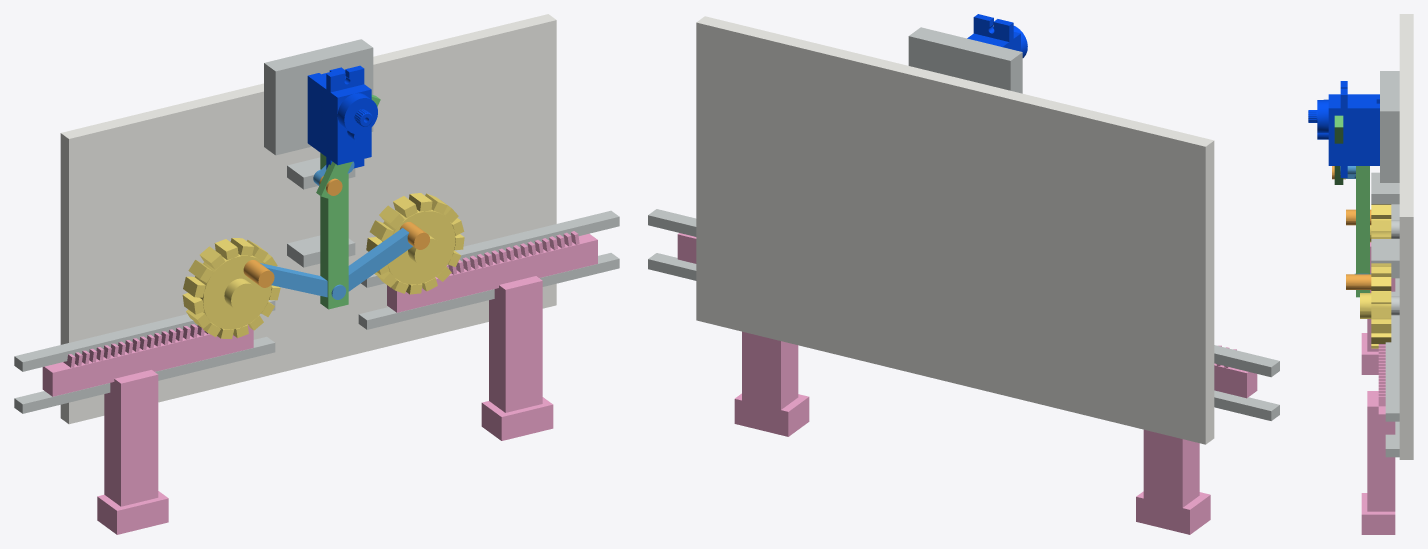
The model's file is .servo_rack_gripper_v0.step.glb.
The picture shows the model from 3 angles, left to right: view 1: azimuth 30°, elevation 25°; view 2: azimuth 150°, elevation 25°; view 3: azimuth 270°, elevation 25°; orthographic projection. The views are drawn at different scales.
Parts seen in each view (by area): view 1: o1.1.1, o1.4.2, o1.6.2, o1.1.8, o1.2.1.1, o1.4.1, o1.6.1, o1.3.1, o1.5.1, o1.1.3, o1.1.2, o1.1.4 (+9 smaller); view 2: o1.1.1, o1.1.8, o1.6.2, o1.4.2, o1.4.3, o1.6.3, o1.2.1.1, o1.1.3, o1.1.2, o1.4.1, o1.1.5, o1.1.4; view 3: o1.1.1, o1.2.1.1, o1.6.2, o1.1.8, o1.3.1, o1.1.5, o1.6.3, o1.1.9, o1.1.10, o1.4.3, o1.2.2, o1.1.4 (+16 smaller).
Boxes of the visible parts, x1,y1,x2,y2 form: o1.1.1: (60, 14, 556, 424); o1.4.2: (104, 370, 158, 506); o1.6.2: (489, 276, 542, 412); o1.1.8: (264, 39, 373, 155); o1.2.1.1: (307, 65, 377, 169); o1.4.1: (42, 324, 253, 396); o1.6.1: (387, 233, 597, 312); o1.3.1: (320, 153, 348, 309); o1.5.1: (195, 254, 271, 329); o1.1.3: (14, 300, 275, 371); o1.1.2: (14, 336, 275, 413); o1.1.4: (358, 253, 619, 329); o1.1.1: (696, 16, 1214, 444); o1.1.8: (908, 27, 1022, 93); o1.6.2: (742, 331, 798, 412); o1.4.2: (1143, 429, 1199, 507); o1.4.3: (1136, 491, 1210, 534); o1.6.3: (734, 393, 809, 436); o1.2.1.1: (967, 14, 1027, 57); o1.1.3: (1214, 345, 1279, 377); o1.1.2: (1214, 390, 1279, 420); o1.4.1: (1214, 363, 1257, 398); o1.1.5: (648, 209, 696, 236); o1.1.4: (648, 253, 696, 280); o1.1.1: (1399, 14, 1413, 459); o1.2.1.1: (1308, 81, 1379, 177); o1.6.2: (1367, 391, 1395, 511); o1.1.8: (1380, 71, 1399, 182); o1.3.1: (1356, 166, 1369, 297); o1.1.5: (1385, 315, 1399, 421); o1.6.3: (1361, 493, 1395, 534); o1.1.9: (1371, 239, 1399, 270); o1.1.10: (1371, 172, 1399, 204); o1.4.3: (1361, 333, 1378, 374); o1.2.2: (1334, 115, 1343, 184); o1.1.4: (1385, 421, 1399, 457).
Size of the model in its own units: 0.208 by 0.1392 by 0.0374.
